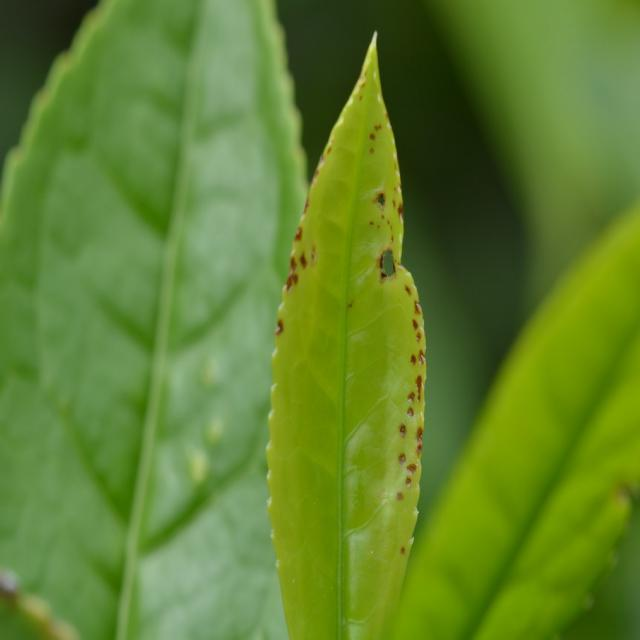Tea red scab: (290, 110, 431, 541)
